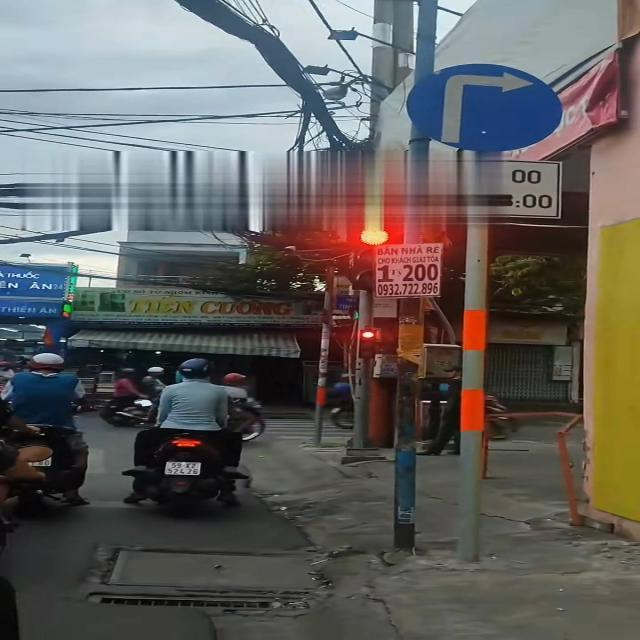301d-cac-xe-chi-duoc-re-phai-2: (410, 58, 562, 154)
